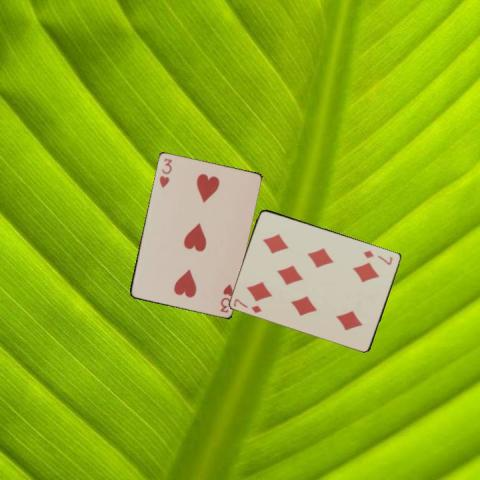3h: (156, 155, 173, 189), (217, 281, 234, 314)
7d: (231, 295, 263, 315), (361, 247, 394, 266)
